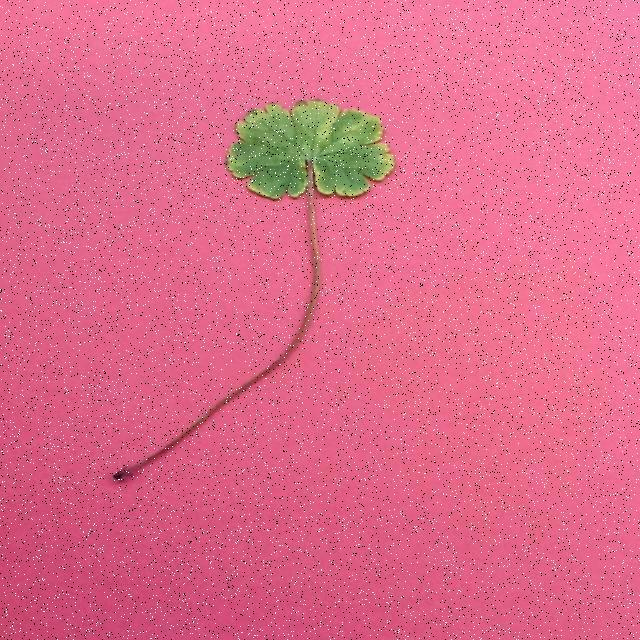foliage: (114, 100, 396, 483)
